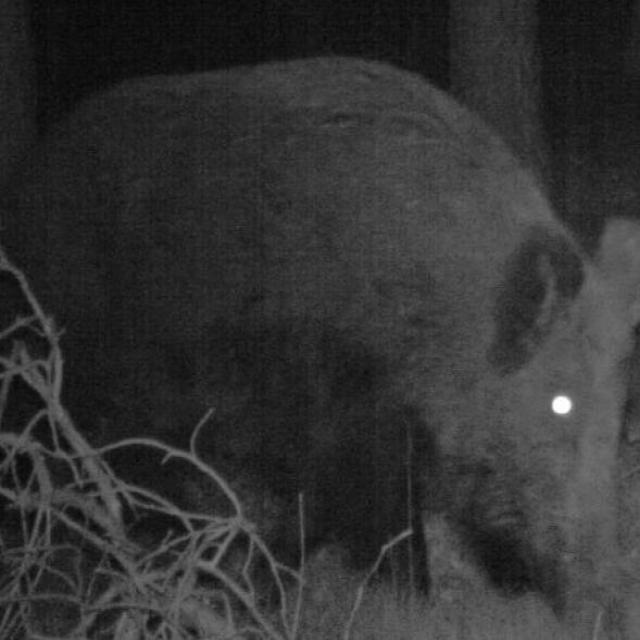pig: (10, 36, 640, 594)
